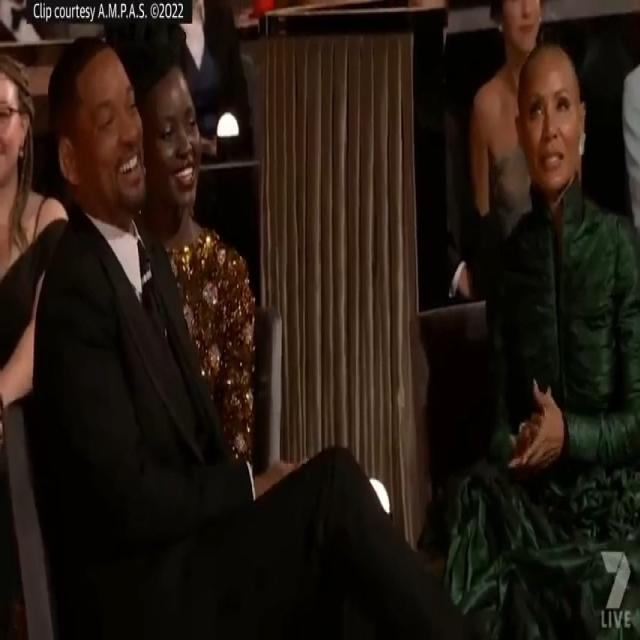non-fight: (34, 0, 640, 639), (31, 34, 479, 640)
